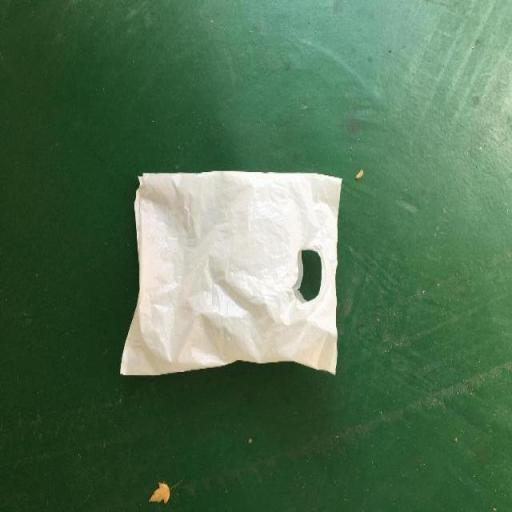plastic-bag: (117, 169, 344, 380)
